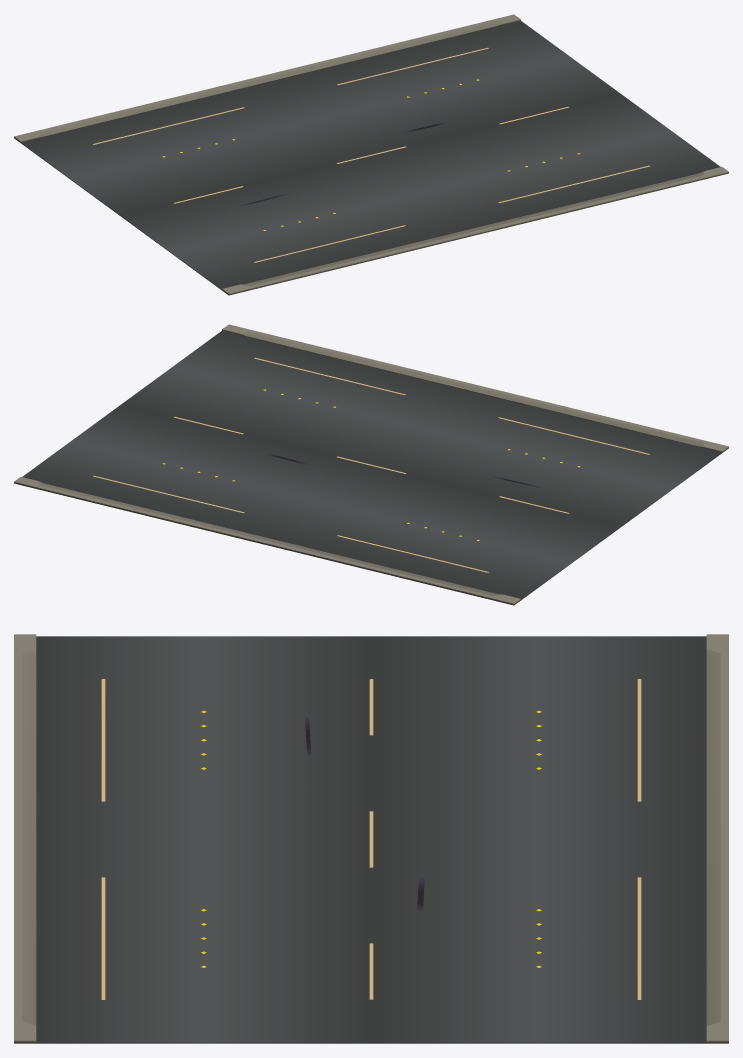
File: Runway_1E.fbx
3 renders of one model, top to bottom at view 1: azimuth 30°, elevation 25°; view 2: azimuth 150°, elevation 25°; view 3: azimuth 270°, elevation 25°, orthographic. The views are drawn at different scales.
Parts seen in each view (by area): view 1: Runway_1E; view 2: Runway_1E; view 3: Runway_1E.
Boxes of the visible parts, x1,y1,x2,y2 form: Runway_1E: [14, 14, 728, 295]; Runway_1E: [14, 324, 728, 605]; Runway_1E: [14, 634, 728, 1043].
Bounding box in the file's own units: 8600 × 30 × 6400.
